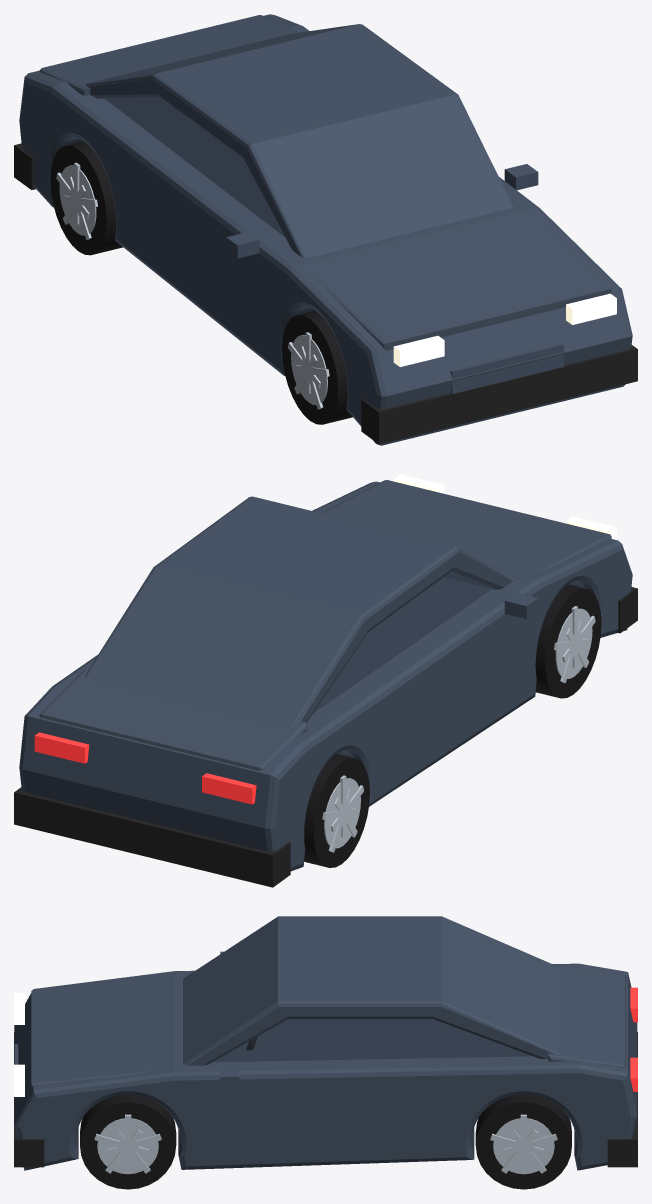
The picture shows the model from 3 angles, top to bottom: view 1: azimuth 30°, elevation 25°; view 2: azimuth 150°, elevation 25°; view 3: azimuth 270°, elevation 25°; orthographic projection. The views are drawn at different scales.
Parts seen in each view (by area): view 1: BodyPanels, BodyRoofPanel, BodyHood, BodyFrontBumper, BodyRearPanels, BodyWindshield, TireRearR, TireFrontR, BodyFrontGrille, BodyHeadlightR, BodyHeadlightL, WheelFrontRRim (+4 smaller); view 2: BodyPanels, BodyRoofPanel, BodyHood, BodyRearPanels, BodyRearBumper, BodyWindshield, TireFrontR, TireRearR, BodyTaillightL, BodyTaillightR, WheelRearRRim, WheelFrontRRim (+2 smaller); view 3: BodyPanels, BodyRoofPanel, BodyHood, BodyWindshield, BodyRearPanels, TireFrontL, TireRearL, WheelFrontLRim, WheelRearLRim, BodyRearBumper, BodyFrontBumper, BodyDoorLMirror.
Part boxes in pixels (x1=…): BodyPanels: x1=19, y1=14, x2=632, y2=445; BodyRoofPanel: x1=85, y1=24, x2=513, y2=258; BodyHood: x1=301, y1=208, x2=611, y2=350; BodyFrontBumper: x1=361, y1=345, x2=637, y2=444; BodyRearPanels: x1=39, y1=15, x2=299, y2=95; BodyWindshield: x1=105, y1=98, x2=284, y2=236; TireRearR: x1=50, y1=141, x2=122, y2=255; TireFrontR: x1=282, y1=311, x2=352, y2=424; BodyFrontGrille: x1=450, y1=343, x2=563, y2=393; BodyHeadlightR: x1=393, y1=335, x2=444, y2=366; BodyHeadlightL: x1=566, y1=293, x2=616, y2=324; WheelFrontRRim: x1=291, y1=335, x2=327, y2=405; BodyPanels: x1=19, y1=481, x2=632, y2=871; BodyRoofPanel: x1=85, y1=496, x2=513, y2=727; BodyHood: x1=322, y1=480, x2=611, y2=578; BodyRearPanels: x1=39, y1=669, x2=306, y2=770; BodyRearBumper: x1=14, y1=787, x2=290, y2=887; BodyWindshield: x1=313, y1=572, x2=491, y2=713; TireFrontR: x1=535, y1=584, x2=601, y2=698; TireRearR: x1=304, y1=754, x2=369, y2=867; BodyTaillightL: x1=34, y1=732, x2=89, y2=763; BodyTaillightR: x1=202, y1=773, x2=256, y2=804; WheelRearRRim: x1=324, y1=778, x2=360, y2=848; WheelFrontRRim: x1=555, y1=608, x2=592, y2=678; BodyPanels: x1=14, y1=963, x2=637, y2=1170; BodyRoofPanel: x1=183, y1=916, x2=560, y2=1065; BodyHood: x1=31, y1=975, x2=177, y2=1089; BodyWindshield: x1=213, y1=1019, x2=531, y2=1062; BodyRearPanels: x1=548, y1=964, x2=626, y2=1068; TireFrontL: x1=80, y1=1094, x2=176, y2=1189; TireRearL: x1=475, y1=1094, x2=571, y2=1189; WheelFrontLRim: x1=97, y1=1118, x2=158, y2=1174; WheelRearLRim: x1=493, y1=1118, x2=554, y2=1174; BodyRearBumper: x1=607, y1=1032, x2=637, y2=1167; BodyFrontBumper: x1=14, y1=1032, x2=44, y2=1167; BodyDoorLMirror: x1=220, y1=1068, x2=239, y2=1088.
Size of the model in its own units: 2.16 by 1.41 by 4.54.
